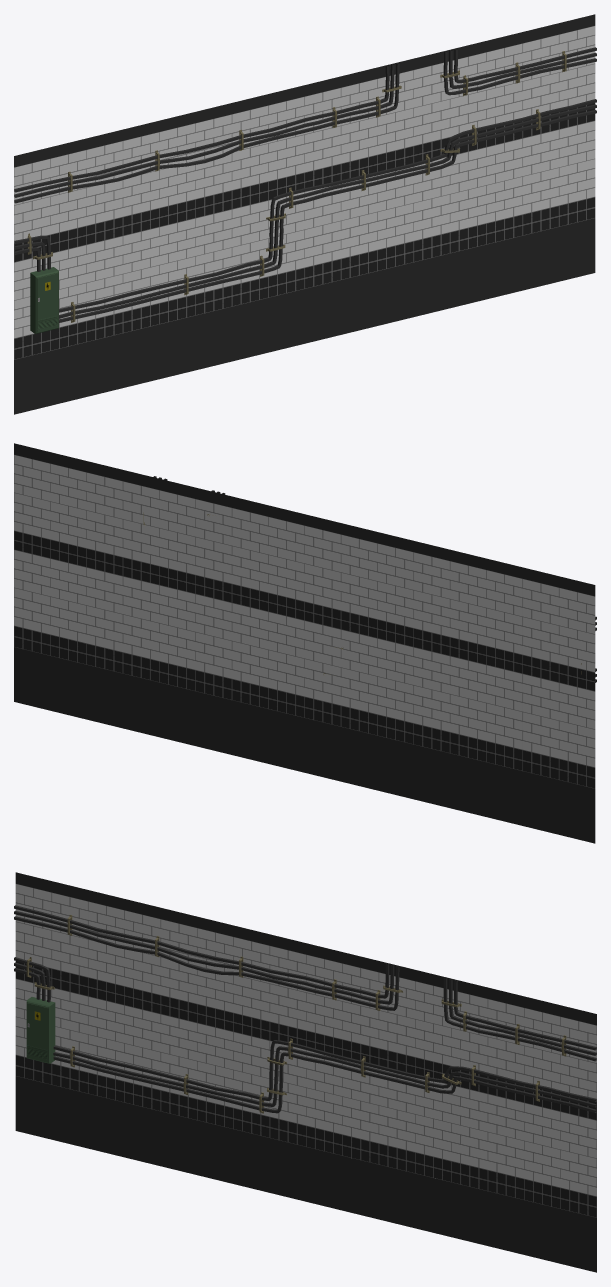
The model's file is SW_ENV_StationTunnel_Wall_A_01a_10m_FF.fbx.
The picture shows the model from 3 angles, top to bottom: view 1: azimuth 30°, elevation 25°; view 2: azimuth 150°, elevation 25°; view 3: azimuth 330°, elevation 25°; orthographic projection.
Visible parts, largest first — view 1: SW_ENV_StationTunnel_Wall_A_01a_10m_FF; view 2: SW_ENV_StationTunnel_Wall_A_01a_10m_FF; view 3: SW_ENV_StationTunnel_Wall_A_01a_10m_FF.
Part boxes in pixels (x1,y1,x2,y2): SW_ENV_StationTunnel_Wall_A_01a_10m_FF: (14,14,596,414); SW_ENV_StationTunnel_Wall_A_01a_10m_FF: (14,443,596,843); SW_ENV_StationTunnel_Wall_A_01a_10m_FF: (14,872,596,1272).
Bounding box in the file's own units: 1000 × 425 × 18.88.
